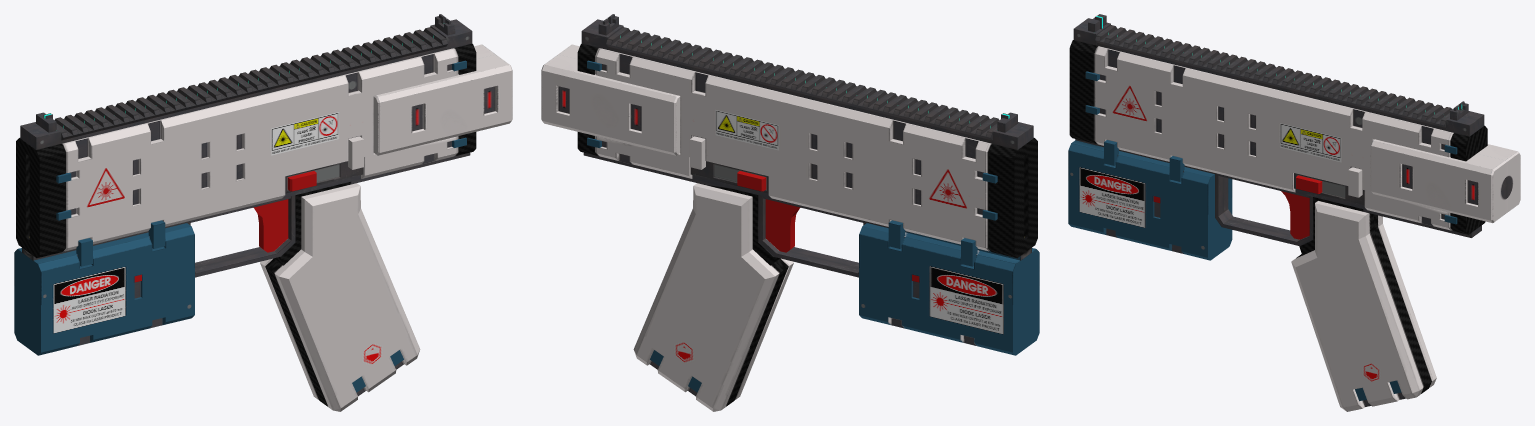
The model's file is multitool.glb.
3 views of the same model, side by side, from view 1: azimuth 30°, elevation 25°; view 2: azimuth 150°, elevation 25°; view 3: azimuth 330°, elevation 25° (orthographic). The views are drawn at different scales.
Parts seen in each view (by area): view 1: pistol_body, pistol_trigger, pistol_trigger_lock; view 2: pistol_body, pistol_trigger; view 3: pistol_body, pistol_trigger.
Boxes of the visible parts, x1,y1,x2,y2 form: pistol_body: (14, 14, 512, 411); pistol_trigger: (253, 199, 288, 252); pistol_trigger_lock: (287, 171, 316, 191); pistol_body: (541, 14, 1039, 411); pistol_trigger: (765, 199, 800, 252); pistol_body: (1068, 14, 1520, 411); pistol_trigger: (1281, 191, 1309, 239).
Bounding box in the file's own units: 77.89 × 56.94 × 9.18.
Materials: 1 (1 with a texture image).
